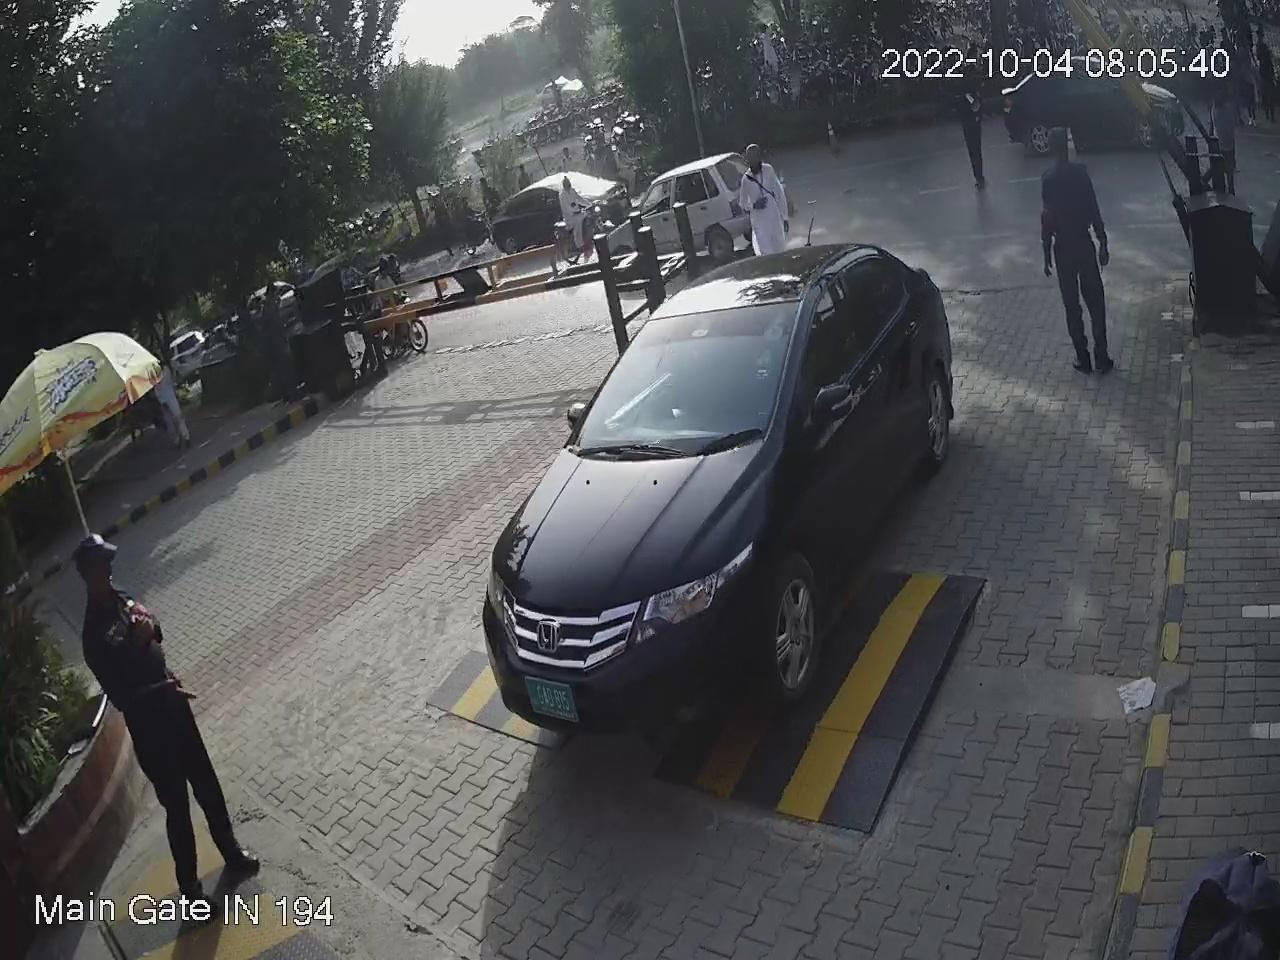windshield: (565, 277, 813, 453)
